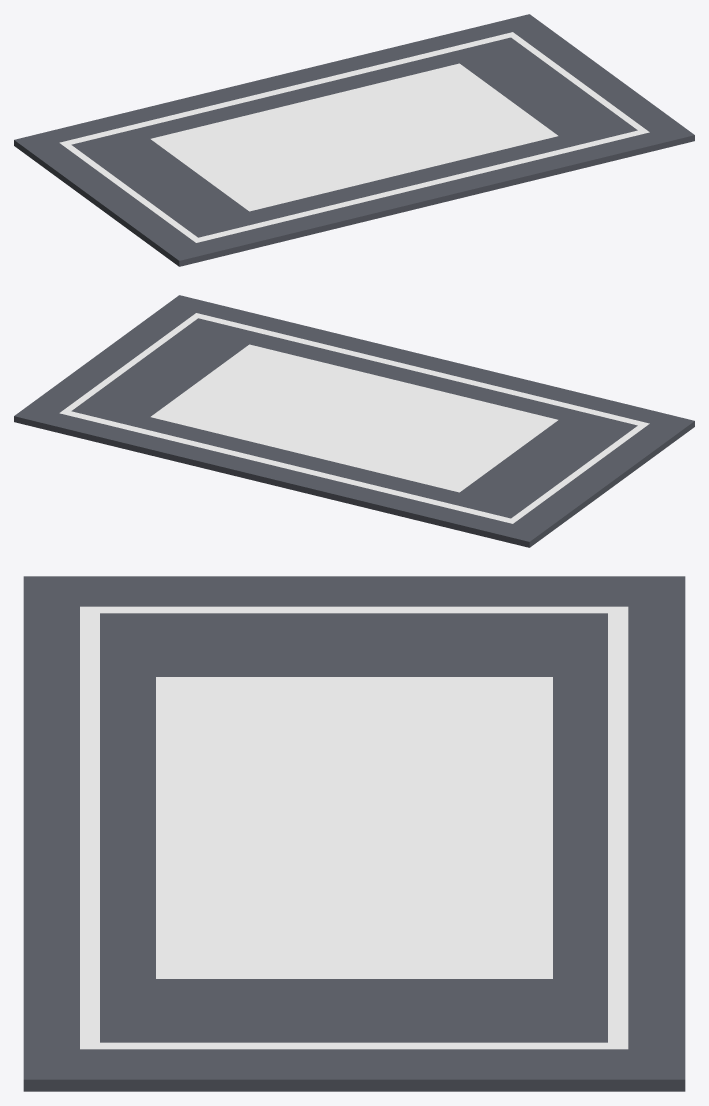
File: Carpet_1C.fbx
The picture shows the model from 3 angles, top to bottom: view 1: azimuth 30°, elevation 25°; view 2: azimuth 150°, elevation 25°; view 3: azimuth 270°, elevation 25°; orthographic projection. The views are drawn at different scales.
Parts seen in each view (by area): view 1: pPlane48; view 2: pPlane48; view 3: pPlane48.
Boxes of the visible parts, x1,y1,x2,y2 form: pPlane48: [14, 14, 694, 266]; pPlane48: [14, 295, 694, 547]; pPlane48: [23, 576, 685, 1091].
Size of the model in its own units: 4.5 by 0.05 by 2.5.
Materials: 1 (1 with a texture image).
